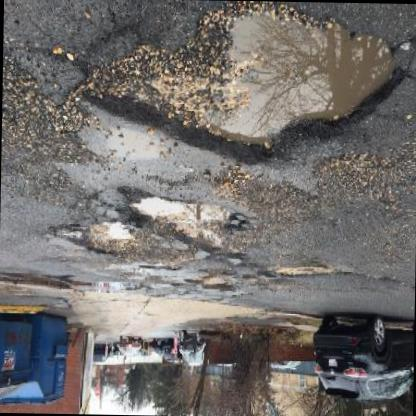pothole: (76, 2, 409, 171), (120, 183, 253, 257), (66, 219, 142, 260), (277, 266, 344, 282), (200, 275, 229, 292)
